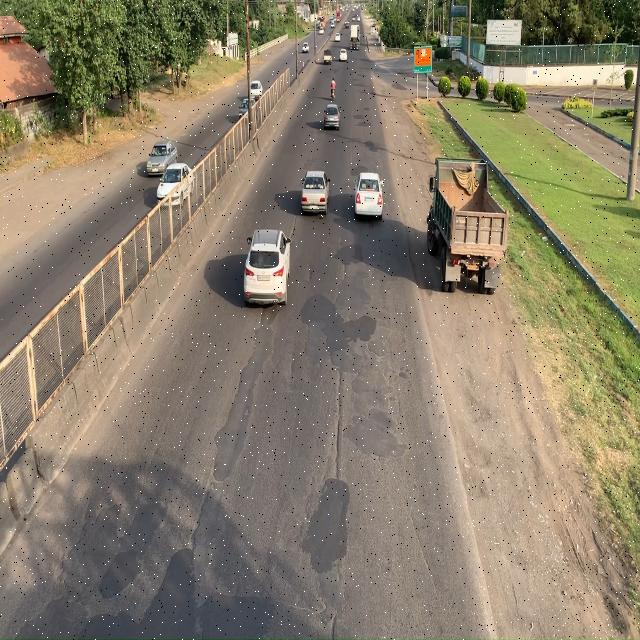Truck: (425, 150, 509, 298)
cars: (242, 223, 293, 311), (155, 160, 197, 215), (352, 166, 386, 223), (299, 166, 332, 215), (146, 131, 177, 175), (323, 101, 343, 134)
